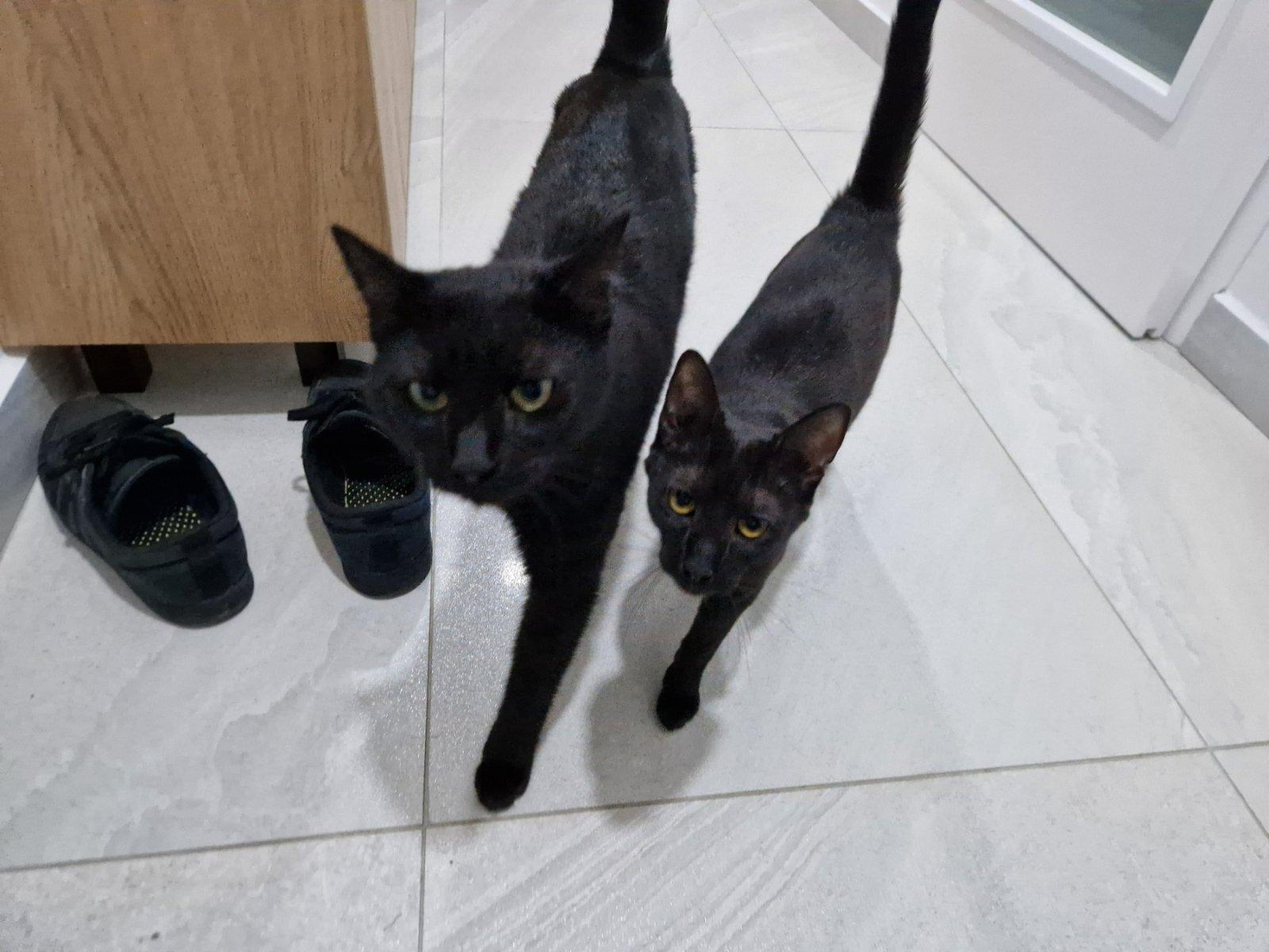macka: (329, 0, 695, 812), (644, 0, 946, 733)
